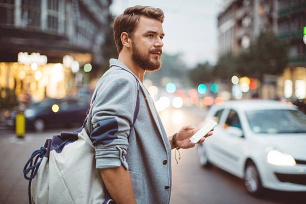male: (123, 7, 168, 76)
